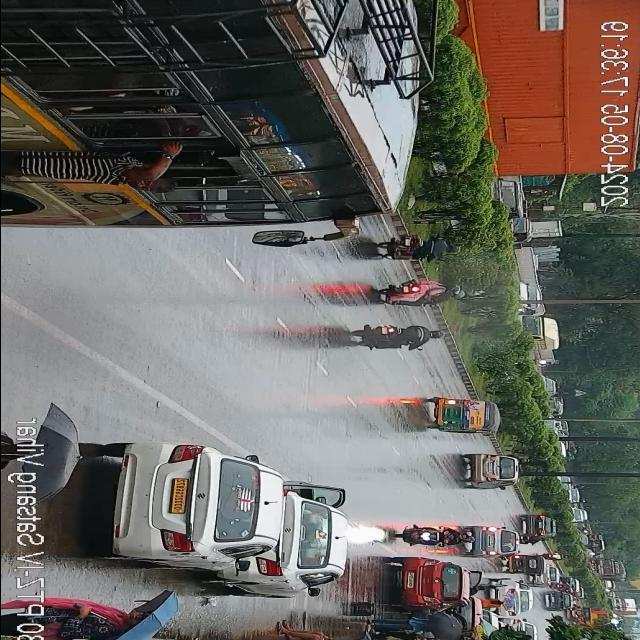2-wheelers: (352, 323, 444, 358), (368, 278, 464, 306), (376, 232, 454, 263), (385, 523, 479, 548), (537, 552, 569, 562)
auto: (424, 398, 502, 434), (504, 553, 538, 574)
bus: (92, 0, 438, 236)
car: (89, 443, 280, 573), (197, 482, 346, 596), (392, 558, 462, 612), (458, 452, 517, 490), (459, 524, 517, 558), (489, 578, 531, 618), (524, 511, 554, 542), (542, 586, 572, 612), (540, 562, 558, 586)
pedestrian: (52, 582, 184, 640), (373, 611, 473, 640), (264, 620, 382, 640)
truck: (453, 0, 640, 176)
